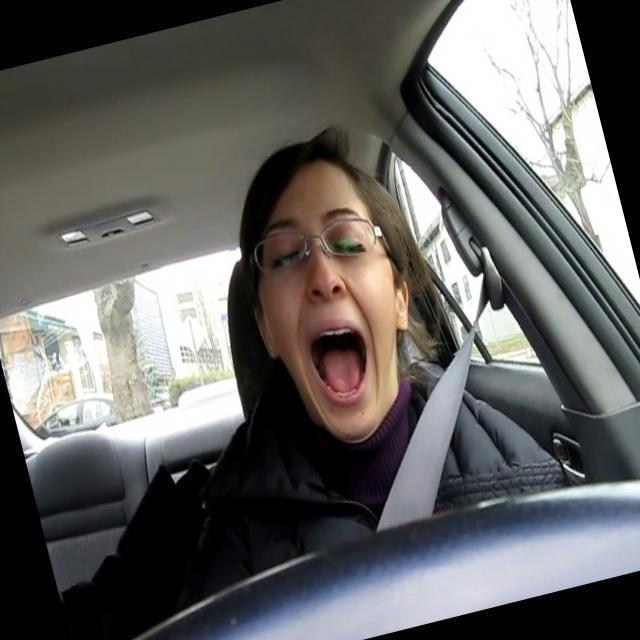open-mouth: (308, 322, 370, 405)
